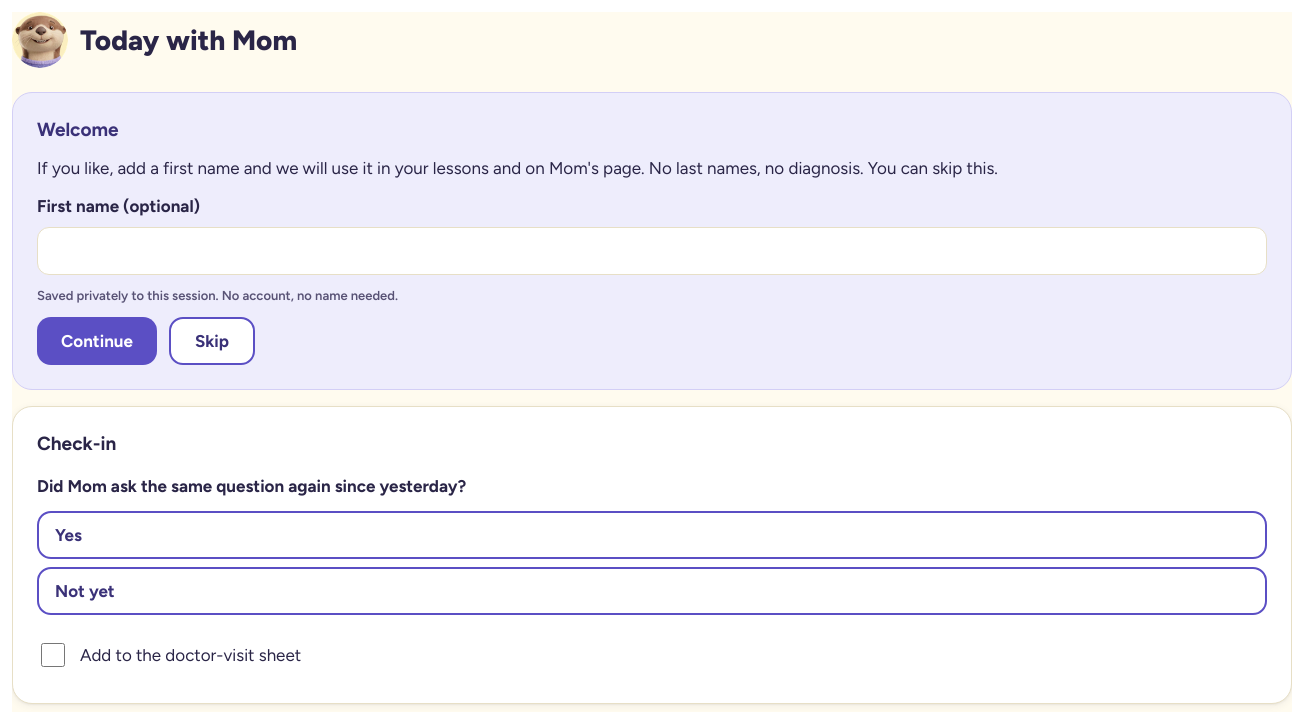
Test case: Check-in card › quotes the user's own plan and walks yes -> follow-up -> helped
Expected: the heading "Today with Mom" is shown, [80,23,297,57]
Expected: the text "Did Mom ask the same question again since yesterday?" is shown, [37,476,466,496]
Click the button "Yes".
click(68, 535)  # box [37,511,1267,559]
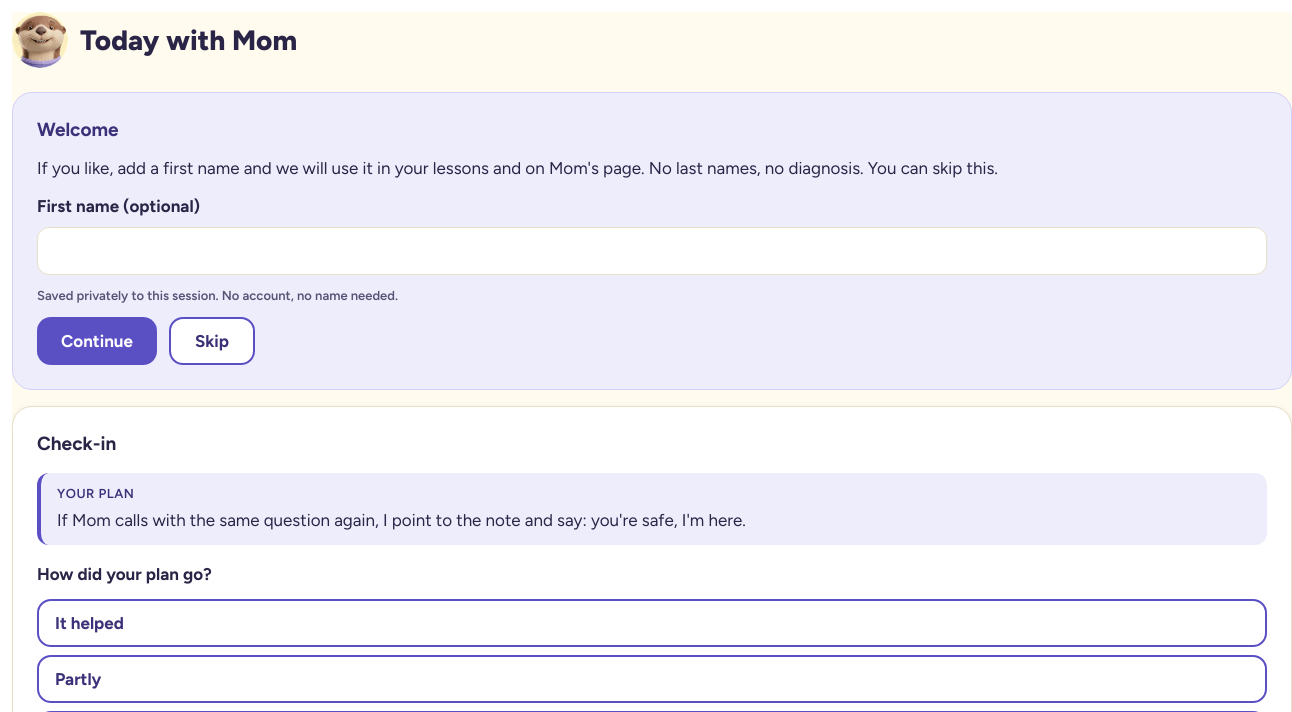
Expected: the text "How did your plan go?" is shown, [37,564,212,584]
Click the button "It helped".
click(89, 623)  # box [37,599,1267,647]
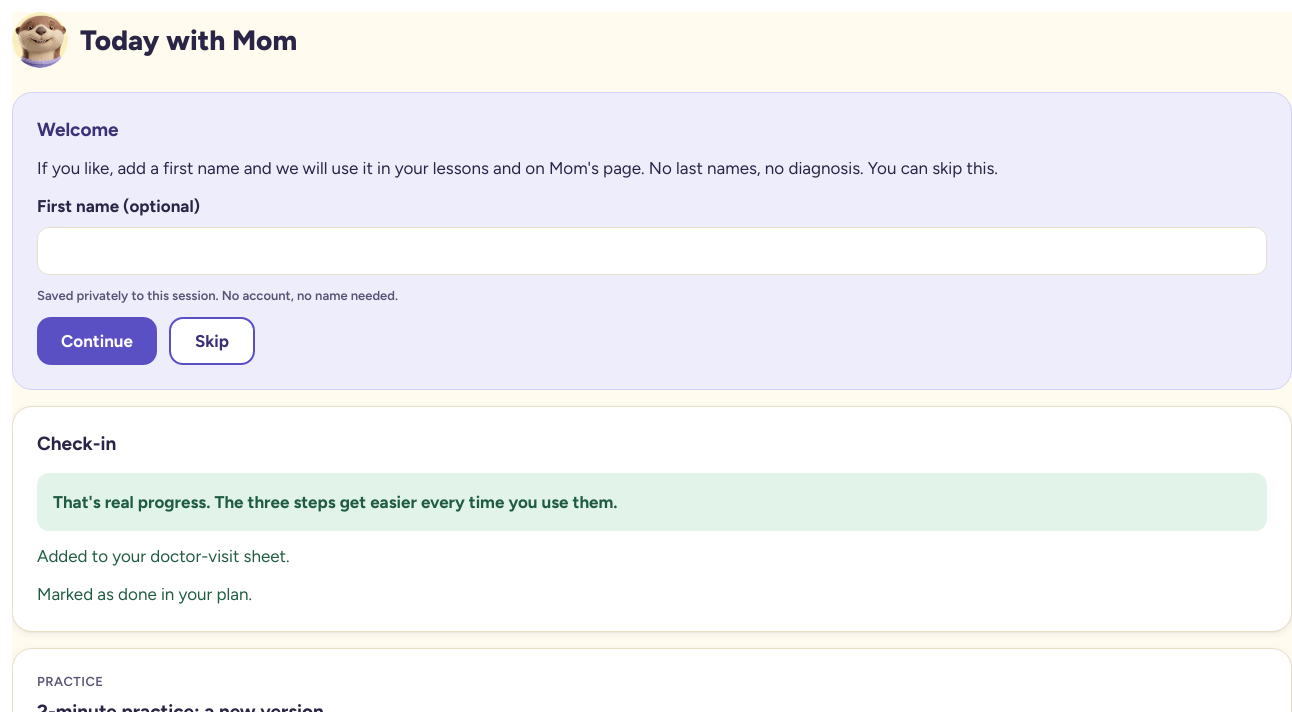
Expected: the text "That's real progress" is shown, [53,492,618,512]
Expected: the button "It helped" is gone
Expected: the text "Marked as done in your plan." is shown, [37,584,252,604]
